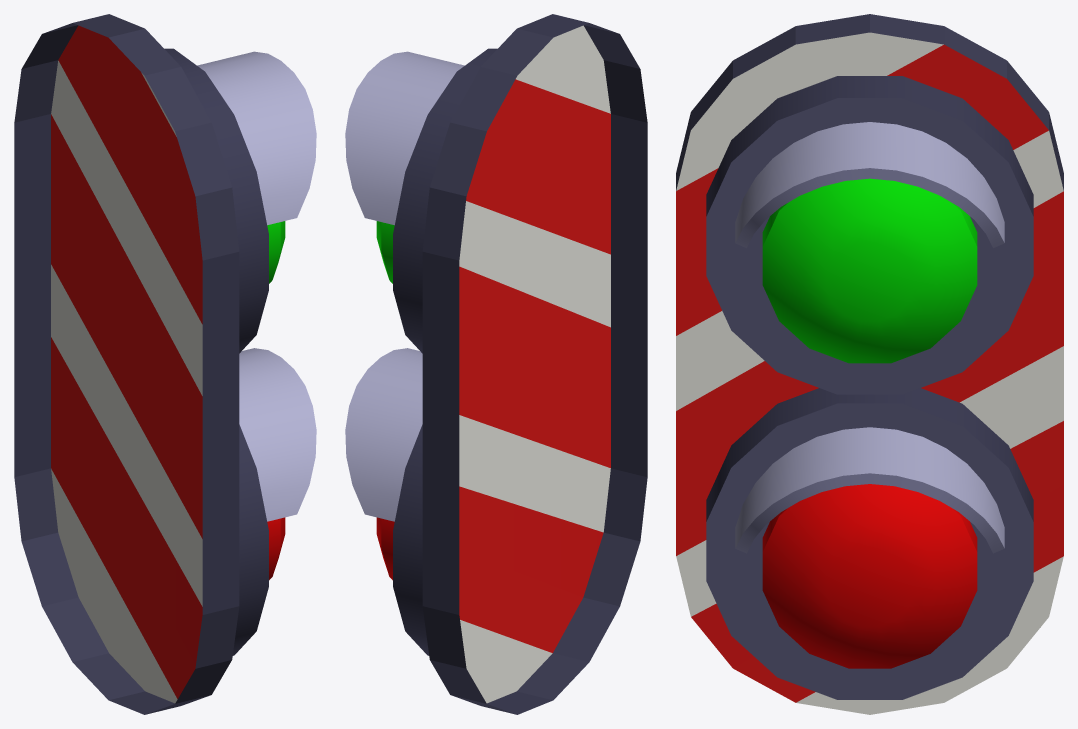
The model's file is TrafficLights.fbx.
3 views of the same model, side by side, from view 1: azimuth 30°, elevation 25°; view 2: azimuth 150°, elevation 25°; view 3: azimuth 270°, elevation 25° (orthographic). The views are drawn at different scales.
Parts seen in each view (by area): view 1: TrafficLights, Red_Lights, Green_Lights; view 2: TrafficLights, Red_Lights, Green_Lights; view 3: TrafficLights, Red_Lights, Green_Lights.
Boxes of the visible parts, <box> form: TrafficLights: <box>14,14,316,714</box>; Red_Lights: <box>267,221,285,283</box>; Green_Lights: <box>267,517,285,580</box>; TrafficLights: <box>345,14,647,714</box>; Red_Lights: <box>376,221,394,283</box>; Green_Lights: <box>376,517,394,580</box>; TrafficLights: <box>676,14,1063,714</box>; Red_Lights: <box>762,178,977,363</box>; Green_Lights: <box>762,484,977,668</box>.
Size of the model in its own units: 3.82 by 14.01 by 7.21.
Materials: 3 (1 with a texture image).
